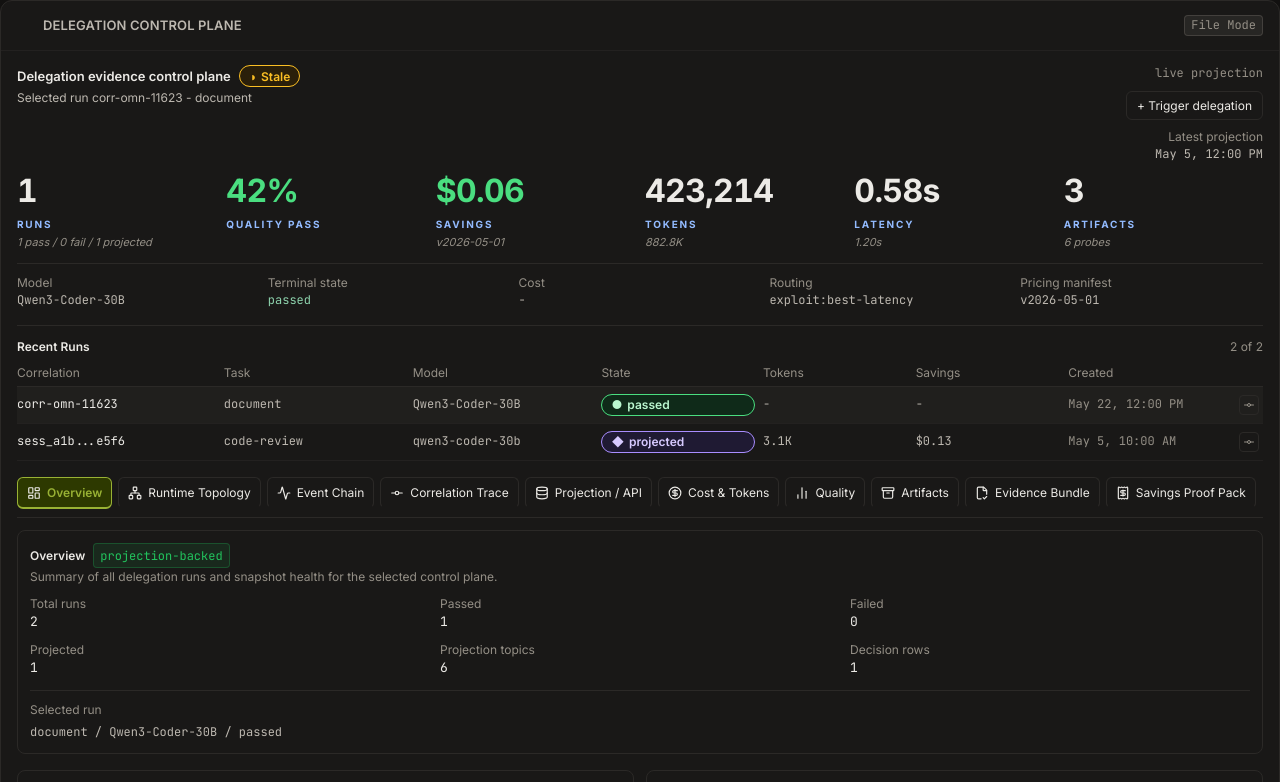
Scenario: DelegationControlPlane › shows cost and token data on cost-tokens tab
Expected: the text "Delegation evidence control plane" is shown, 17,67 -> 231,86
Step 1. Click the tab "Cost & Tokens" → coordinates (719, 493), box 658,477 -> 780,509
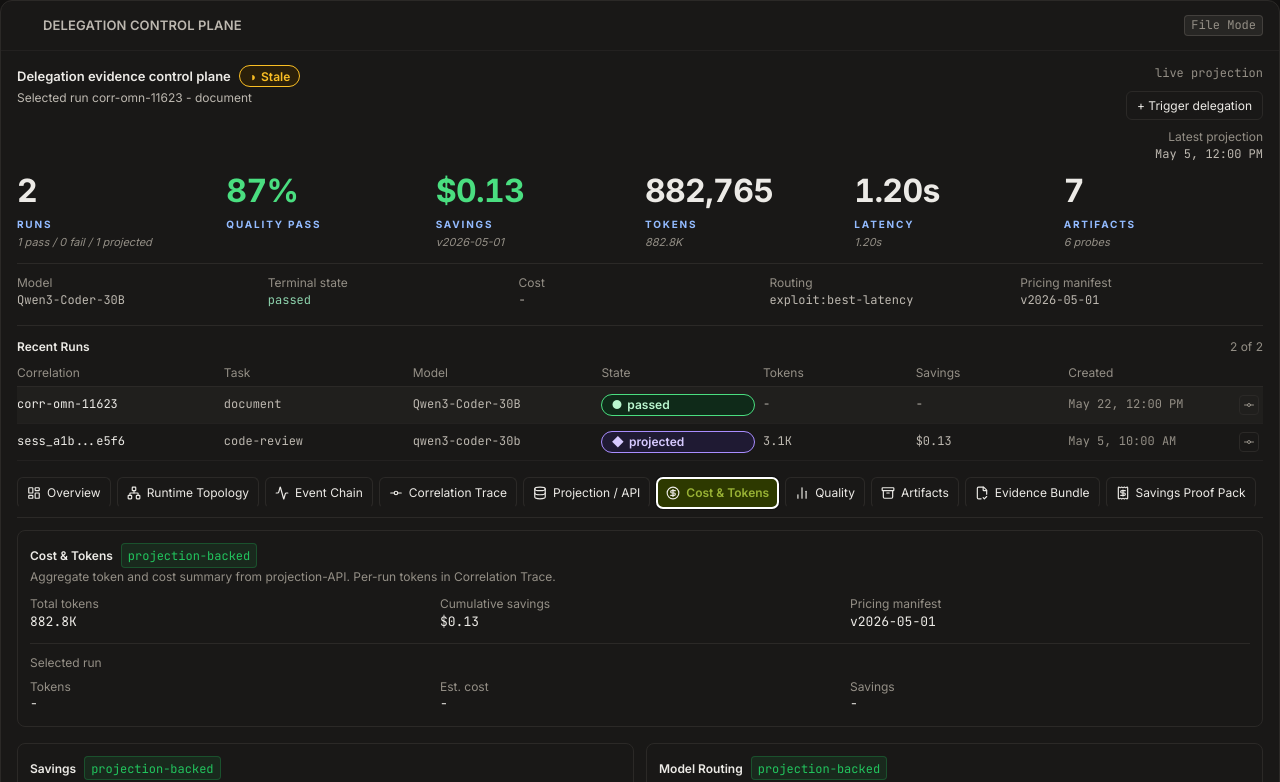
Expected: the 1st text "Cost & Tokens" is shown, 686,484 -> 769,501
Expected: the text "Total tokens" is shown, 30,596 -> 99,611
Expected: the text "Cumulative savings" is shown, 440,596 -> 550,611
